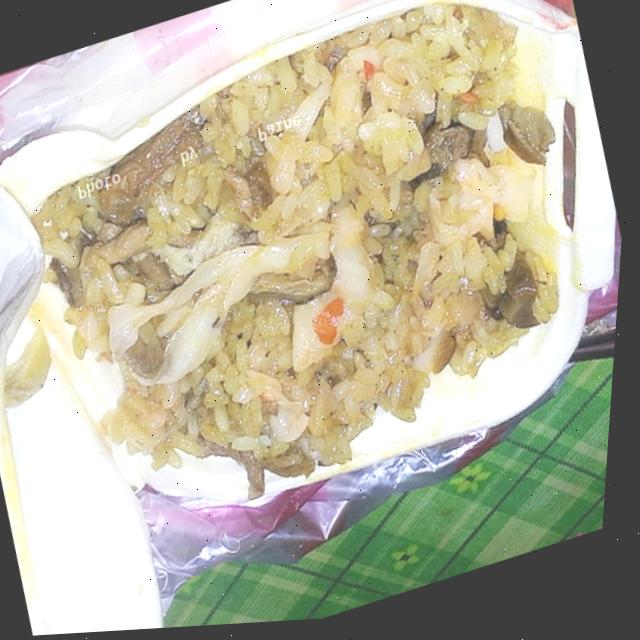米饭主食: (17, 0, 634, 533)
